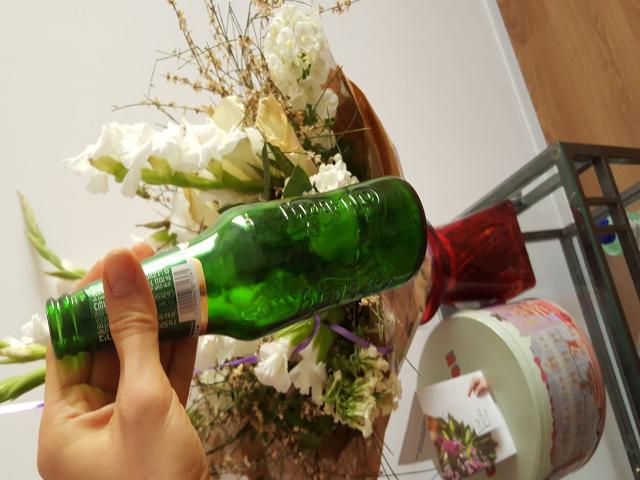beer: (46, 176, 427, 341)
